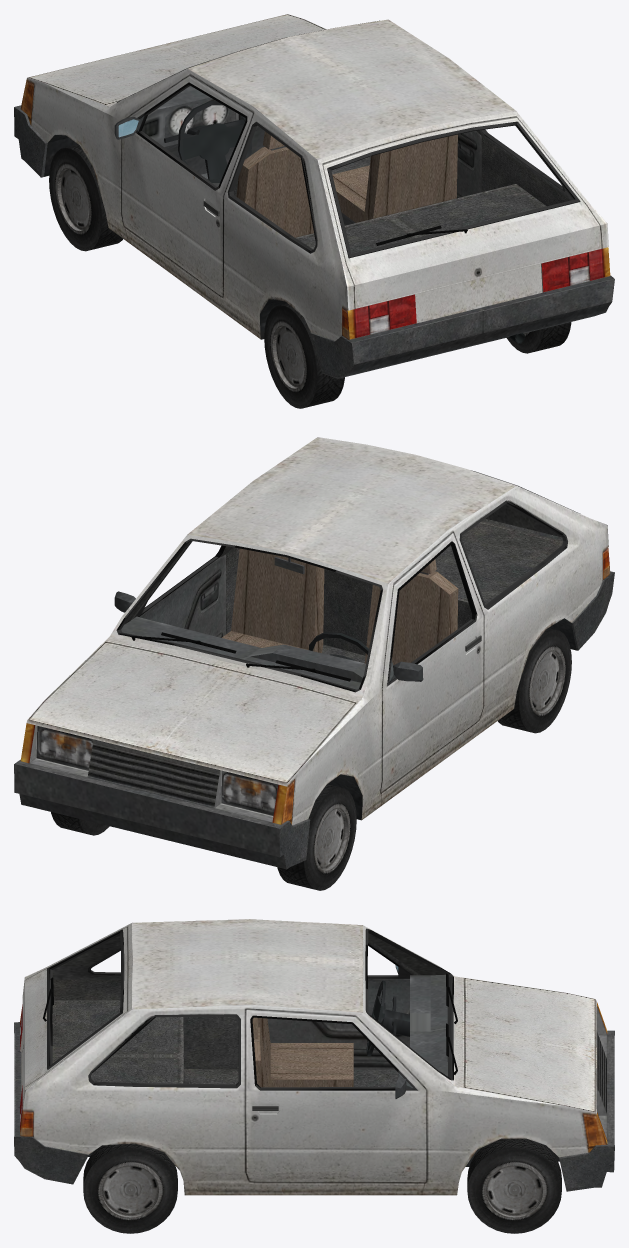
The model's file is zaz-1102.glb.
3 renders of one model, top to bottom at view 1: azimuth 30°, elevation 25°; view 2: azimuth 150°, elevation 25°; view 3: azimuth 270°, elevation 25°, orthographic. The views are drawn at different scales.
Parts seen in each view (by area): view 1: ZAZ-1102, BackDoor, Left_door, Passager_seat, Driver_seat, Back_Wheel_L, Front_Wheel_L, Control_wheel, Right_door, Back_Wheel_R; view 2: ZAZ-1102, Left_door, Passager_seat, Driver_seat, Right_door, Front_Wheel_L, Back_Wheel_L, BackDoor, Front_Wheel_R; view 3: ZAZ-1102, Right_door, Front_Wheel_R, Back_Wheel_R, Left_door, BackDoor, Driver_seat, Control_wheel, Passager_seat.
Boxes of the visible parts, <box> form: ZAZ-1102: <box>14,14,614,378</box>; BackDoor: <box>323,117,601,308</box>; Left_door: <box>114,76,253,296</box>; Passager_seat: <box>332,134,457,225</box>; Driver_seat: <box>236,131,313,237</box>; Back_Wheel_L: <box>264,303,344,408</box>; Front_Wheel_L: <box>49,144,122,251</box>; Control_wheel: <box>164,100,252,182</box>; Right_door: <box>456,130,481,198</box>; Back_Wheel_R: <box>506,322,571,353</box>; ZAZ-1102: <box>14,437,614,869</box>; Left_door: <box>381,532,483,791</box>; Passager_seat: <box>222,548,324,653</box>; Driver_seat: <box>364,559,458,665</box>; Right_door: <box>114,541,228,637</box>; Front_Wheel_L: <box>277,784,356,890</box>; Back_Wheel_L: <box>498,628,571,733</box>; BackDoor: <box>471,470,580,537</box>; Front_Wheel_R: <box>51,812,109,835</box>; ZAZ-1102: <box>14,919,614,1195</box>; Right_door: <box>246,1009,425,1181</box>; Front_Wheel_R: <box>467,1138,561,1233</box>; Back_Wheel_R: <box>83,1143,177,1233</box>; Left_door: <box>267,939,420,1069</box>; BackDoor: <box>22,927,127,1104</box>; Driver_seat: <box>257,1018,353,1087</box>; Control_wheel: <box>366,980,409,1056</box>; Passager_seat: <box>252,1017,268,1087</box>.
Bounding box in the file's own units: 1.57 × 1.22 × 2.98.
Materials: 1 (1 with a texture image).
